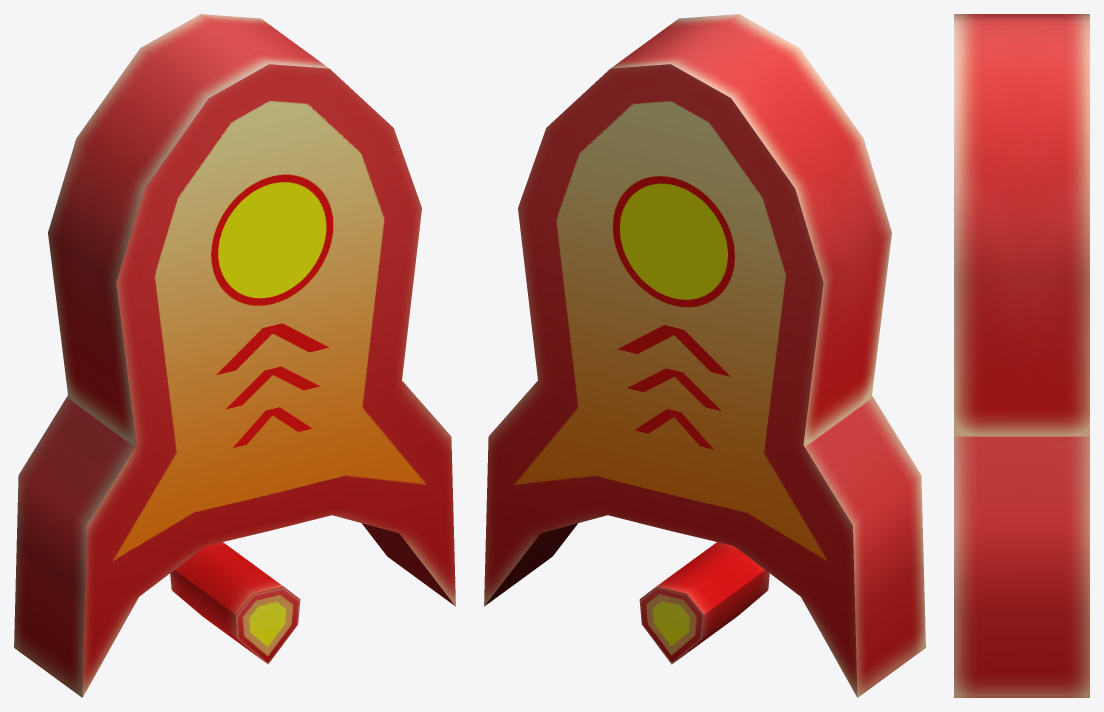
File: HeadStarter.fbx
The picture shows the model from 3 angles, left to right: view 1: azimuth 30°, elevation 25°; view 2: azimuth 150°, elevation 25°; view 3: azimuth 270°, elevation 25°; orthographic projection.
Visible parts, largest first — view 1: HeadStart; view 2: HeadStart; view 3: HeadStart.
Part boxes in pixels (left/top/right/bottom): HeadStart: left=14, top=14, right=455, bottom=697; HeadStart: left=484, top=14, right=925, bottom=697; HeadStart: left=954, top=14, right=1089, bottom=697.
Size of the model in its own units: 88.73 by 136 by 28.19.
Materials: 1 (1 with a texture image).
